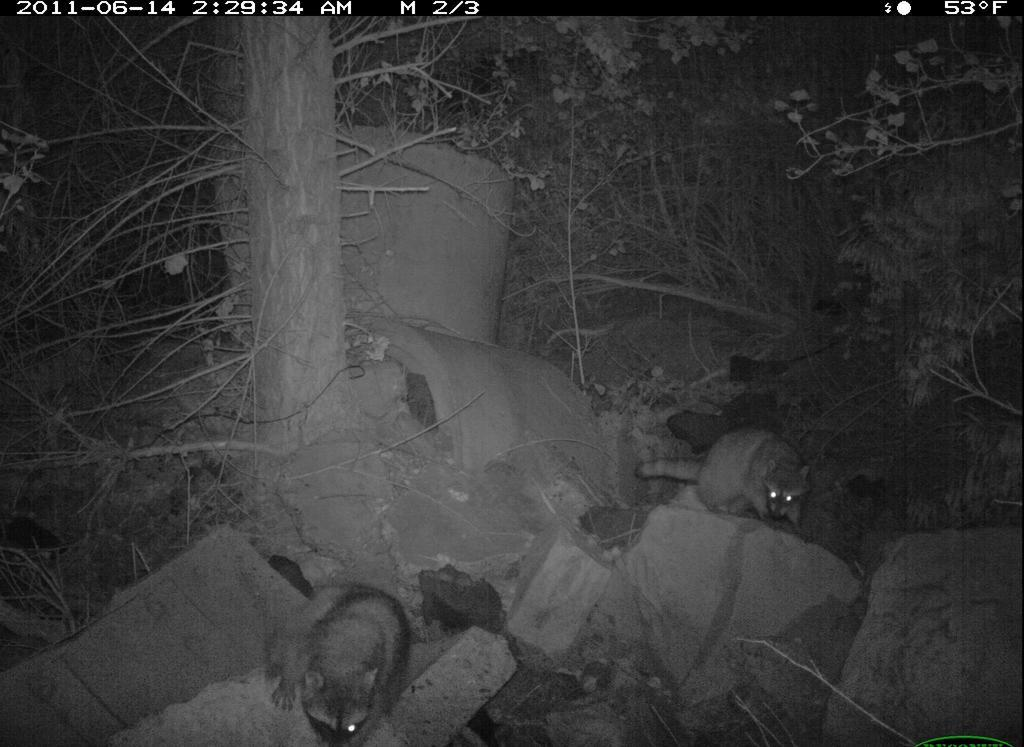raccoon: (259, 580, 417, 747), (634, 429, 818, 533)
